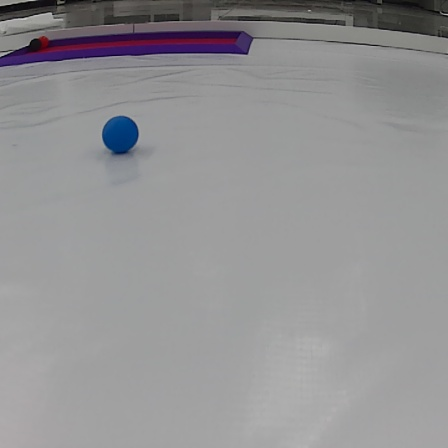black: (29, 40, 42, 50)
blue: (101, 116, 141, 154)
red: (38, 36, 51, 44)
red_aim: (4, 29, 254, 63)
